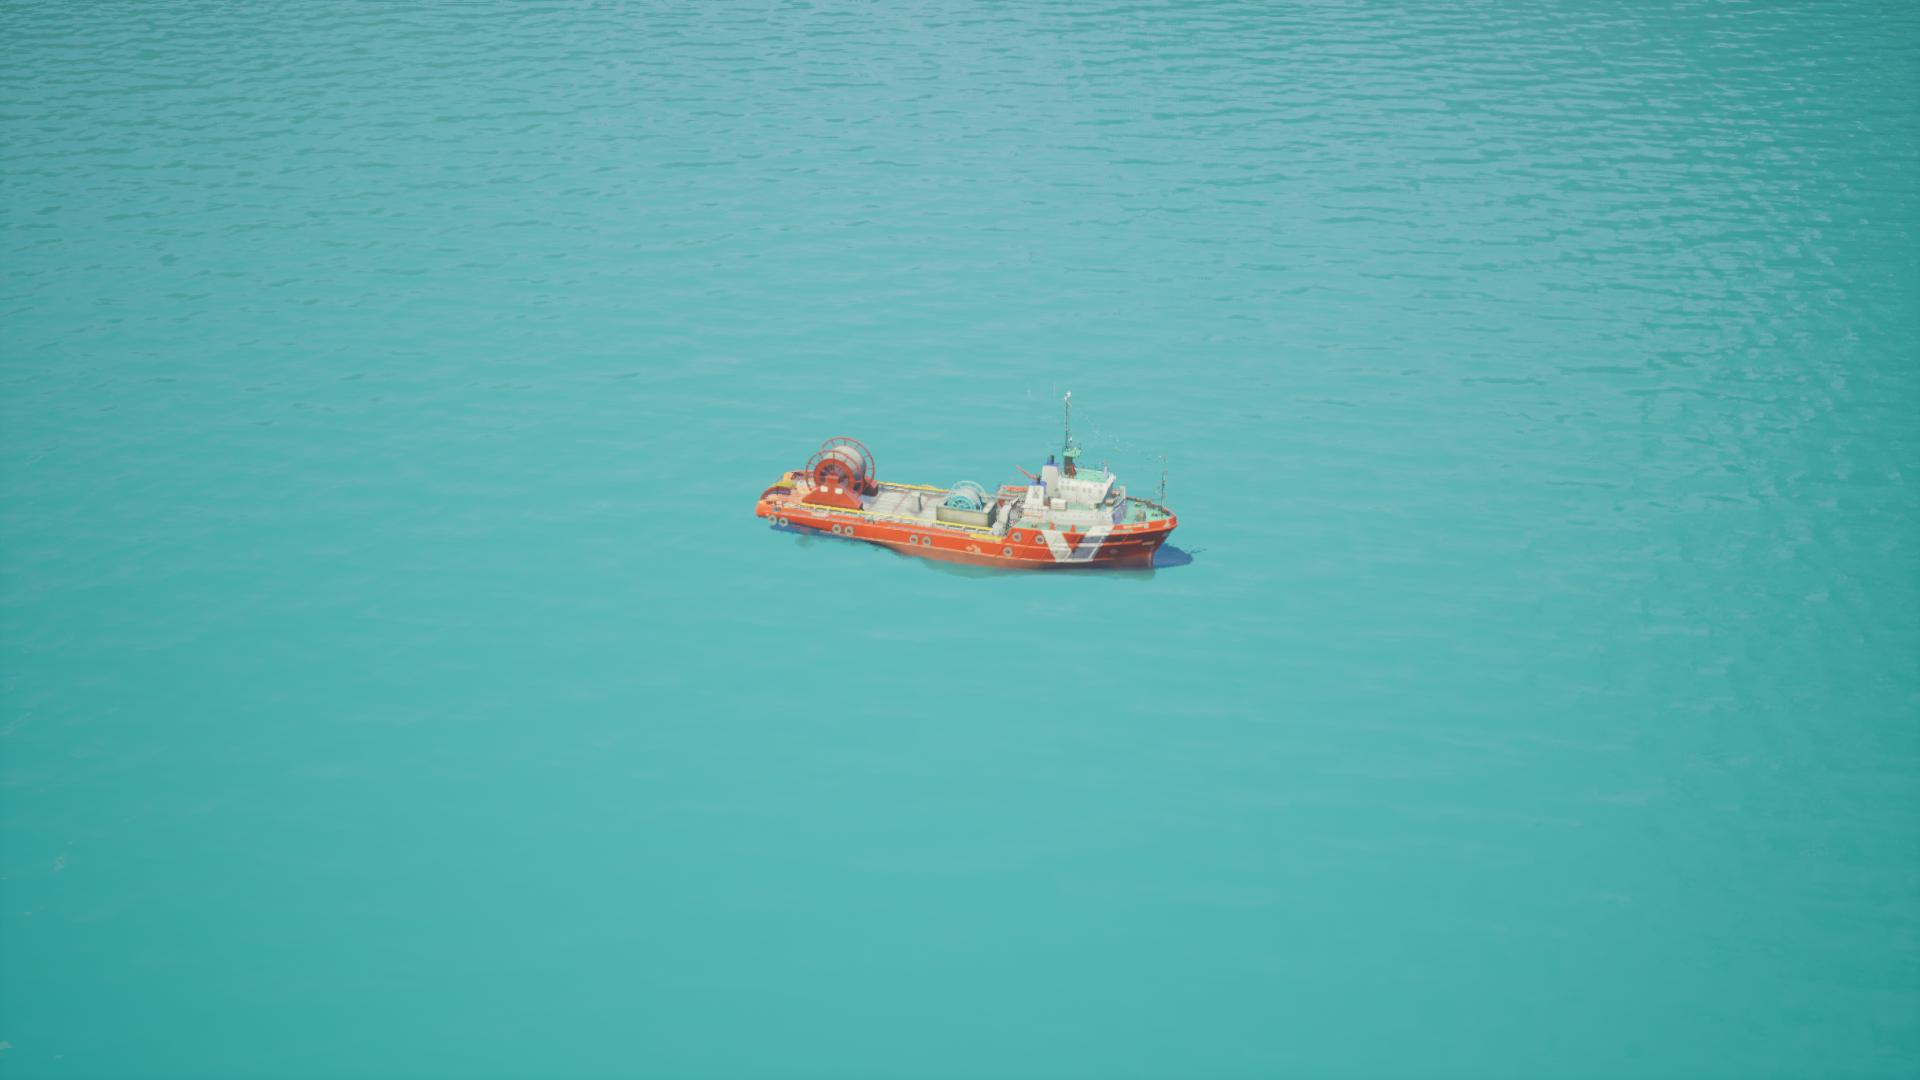Tug Boat: (762, 381, 1251, 653)
